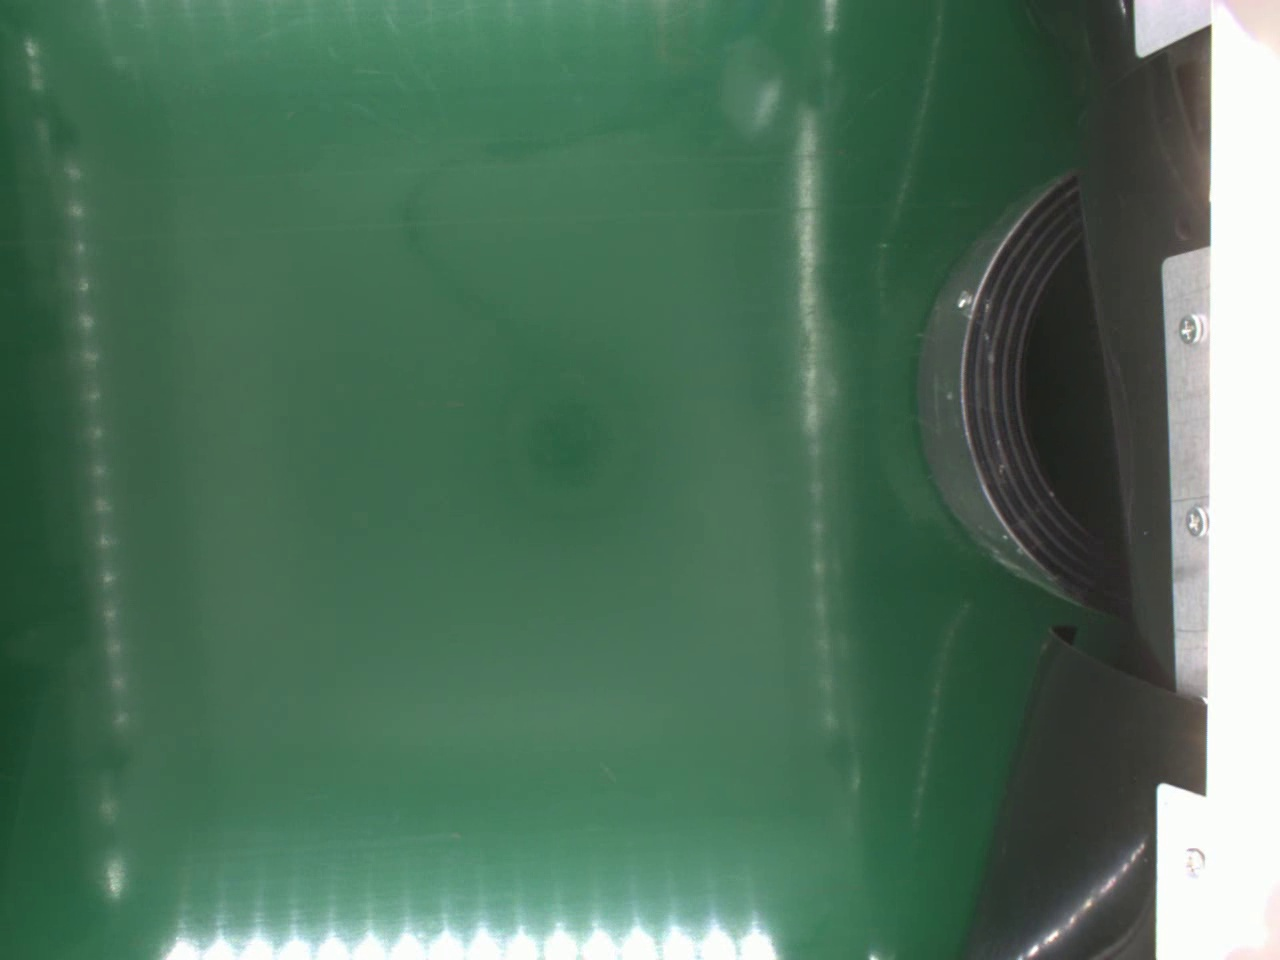black: (909, 166, 1133, 620)
